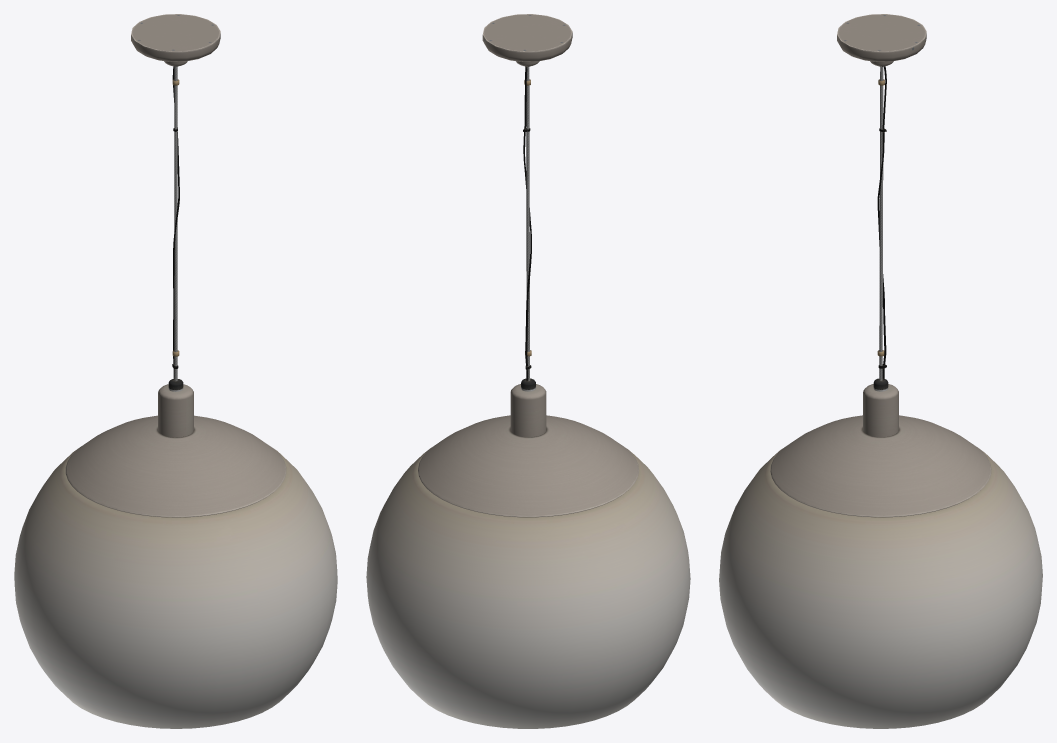
Rendered from lamp_26.glb.
The picture shows the model from 3 angles, left to right: view 1: azimuth 30°, elevation 25°; view 2: azimuth 150°, elevation 25°; view 3: azimuth 270°, elevation 25°; orthographic projection.
Visible parts, largest first — view 1: lamp_26; view 2: lamp_26; view 3: lamp_26.
Boxes of the visible parts, bbox=[...] form: lamp_26: bbox=[14, 14, 337, 728]; lamp_26: bbox=[366, 14, 690, 728]; lamp_26: bbox=[719, 14, 1042, 728].
Bounding box in the file's own units: 0.4316 × 0.9516 × 0.4317.
1 material, 1 textured.
